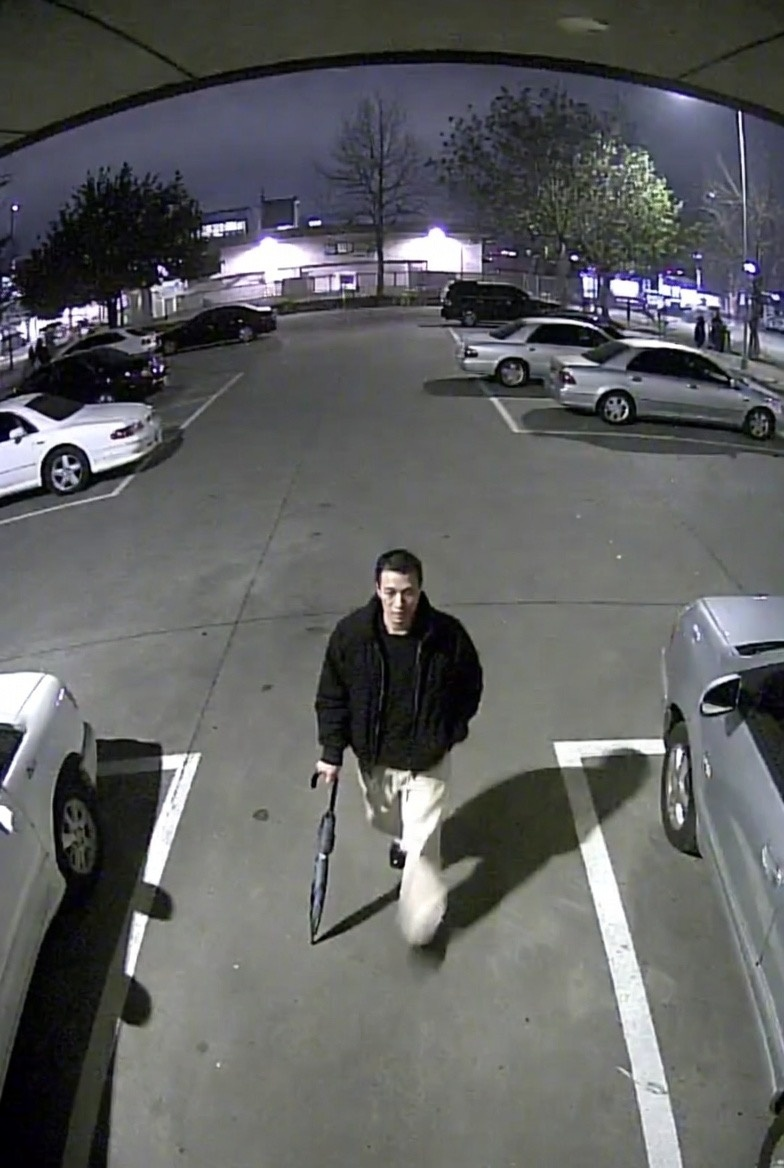person: (339, 554, 501, 942)
umbrella: (308, 745, 351, 952)
